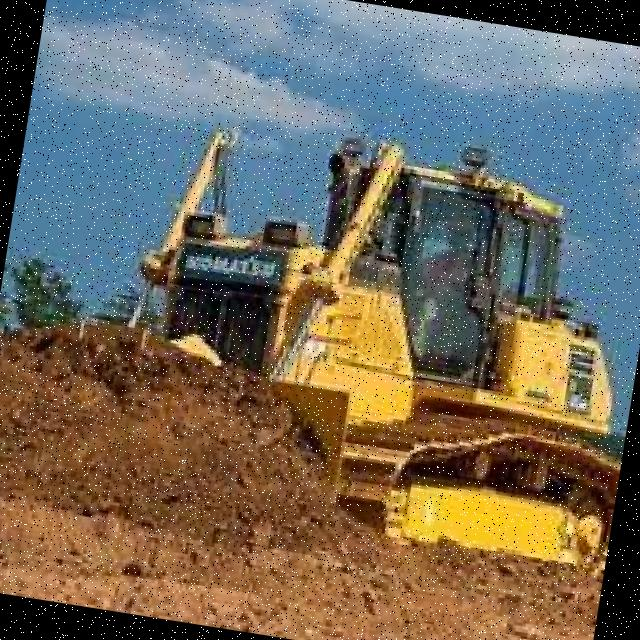Bulldozer: (18, 65, 640, 610)
